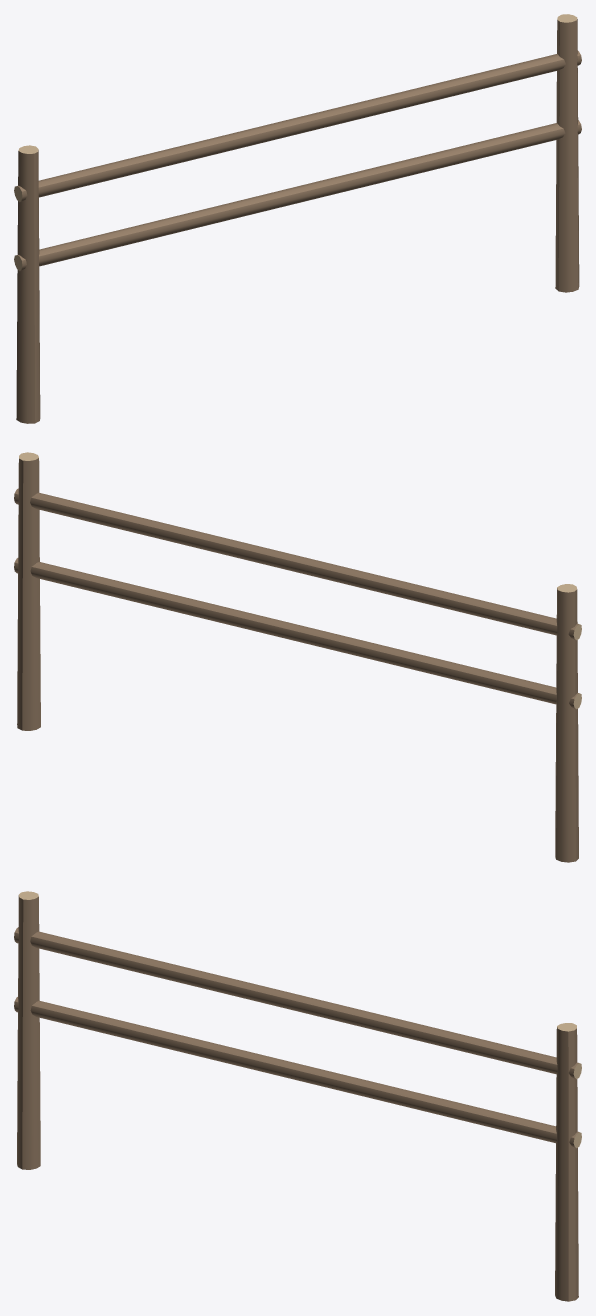
File: log_fence_diagonal.glb
3 renders of one model, top to bottom at view 1: azimuth 30°, elevation 25°; view 2: azimuth 150°, elevation 25°; view 3: azimuth 330°, elevation 25°, orthographic.
Visible parts, largest first — view 1: Fence; view 2: Fence; view 3: Fence.
Part boxes in pixels (<box>): Fence: <box>14,14,581,423</box>; Fence: <box>14,452,581,862</box>; Fence: <box>14,891,581,1301</box>.
Bounding box in the file's own units: 4.24 × 1.95 × 0.166.
